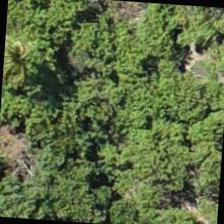Kelapa_Sawit: (0, 22, 66, 116)
